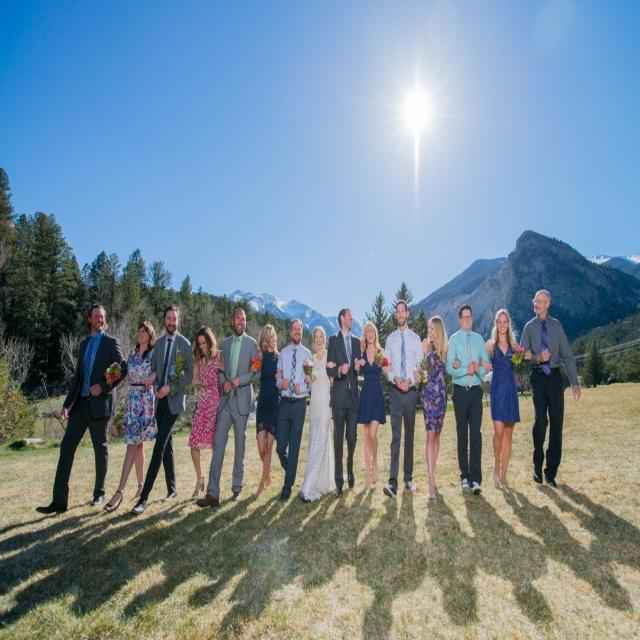body: (0, 483, 640, 640), (33, 300, 129, 516), (129, 303, 195, 516), (194, 306, 262, 510), (517, 288, 582, 489), (102, 319, 160, 514), (478, 307, 532, 491), (444, 303, 492, 497), (412, 314, 461, 502), (380, 298, 425, 500), (179, 323, 227, 498), (324, 306, 366, 499), (297, 326, 338, 504), (275, 317, 312, 503), (248, 322, 283, 498), (357, 321, 389, 489)
